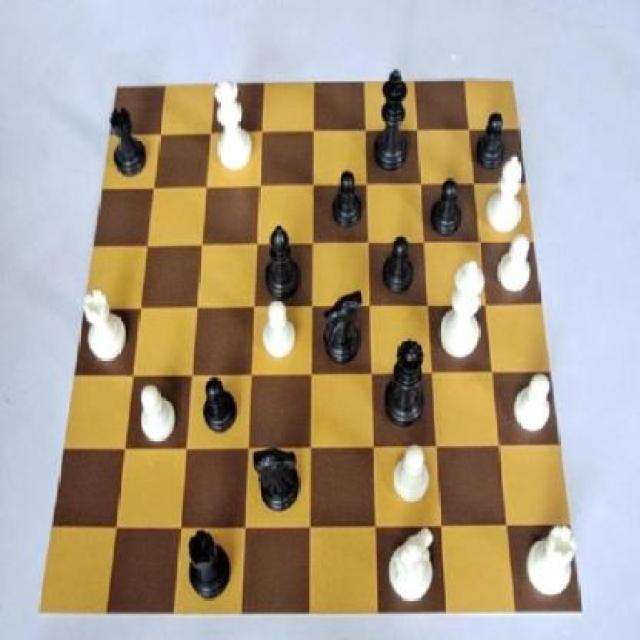bishop: (263, 224, 302, 298)
black-bishop: (375, 66, 411, 172)
black-king: (320, 283, 368, 367), (250, 445, 302, 517)
black-knight: (425, 168, 467, 240), (197, 374, 241, 438), (382, 232, 419, 300), (329, 168, 367, 230), (474, 106, 506, 172)
black-pawn: (383, 334, 428, 436)
black-queen: (184, 526, 234, 604), (106, 101, 150, 178)
black-rook: (483, 149, 525, 233)
white-bishop: (438, 258, 486, 366)
white-king: (386, 522, 440, 609)
white-knight: (511, 368, 557, 438), (134, 382, 178, 446), (497, 232, 535, 302), (391, 440, 433, 502), (262, 298, 298, 361)
white-pawn: (212, 74, 255, 187)
white-queen: (515, 520, 578, 601), (77, 280, 126, 365)
